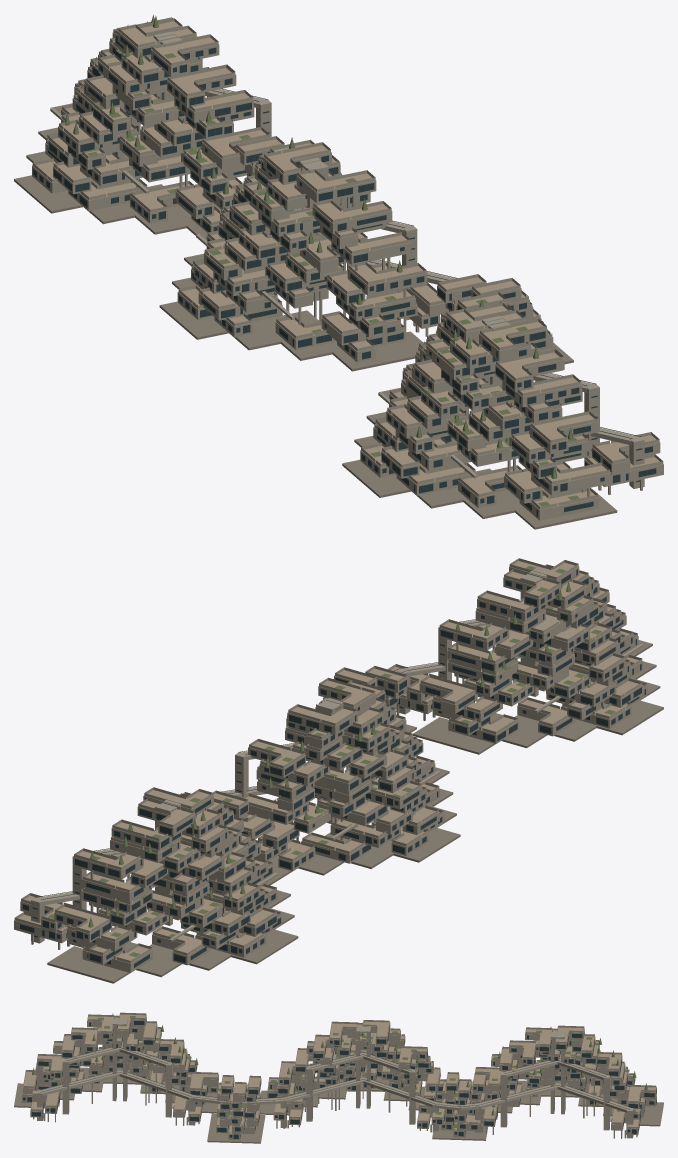
File: habitat-67-near.glb
3 views of the same model, one above another, from view 1: azimuth 30°, elevation 25°; view 2: azimuth 150°, elevation 25°; view 3: azimuth 270°, elevation 25° (orthographic). The views are drawn at different scales.
Parts seen in each view (by area): view 1: habitat-67-0-concrete, habitat-67-0-roof, habitat-67-0-glass, habitat-67-0-stone, habitat-67-0-steel, habitat-67-0-rail; view 2: habitat-67-0-concrete, habitat-67-0-roof, habitat-67-0-glass, habitat-67-0-stone, habitat-67-0-steel, habitat-67-0-rail; view 3: habitat-67-0-concrete, habitat-67-0-roof, habitat-67-0-glass, habitat-67-0-stone, habitat-67-0-rail, habitat-67-0-steel.
Boxes of the visible parts, x1,y1,x2,y2 form: habitat-67-0-concrete: (32, 17, 663, 520); habitat-67-0-roof: (32, 21, 663, 509); habitat-67-0-glass: (33, 36, 656, 516); habitat-67-0-stone: (14, 103, 617, 529); habitat-67-0-steel: (65, 14, 579, 506); habitat-67-0-rail: (52, 39, 647, 510); habitat-67-0-concrete: (14, 558, 647, 972); habitat-67-0-roof: (14, 561, 647, 963); habitat-67-0-glass: (20, 569, 645, 967); habitat-67-0-stone: (47, 640, 663, 983); habitat-67-0-steel: (47, 566, 615, 956); habitat-67-0-rail: (27, 577, 634, 965); habitat-67-0-concrete: (21, 1012, 656, 1140); habitat-67-0-roof: (21, 1014, 656, 1134); habitat-67-0-glass: (23, 1017, 656, 1138); habitat-67-0-stone: (14, 1067, 663, 1143); habitat-67-0-rail: (40, 1021, 649, 1123); habitat-67-0-steel: (32, 1013, 647, 1127).
Size of the model in its own units: 88.42 by 38.12 by 290.
